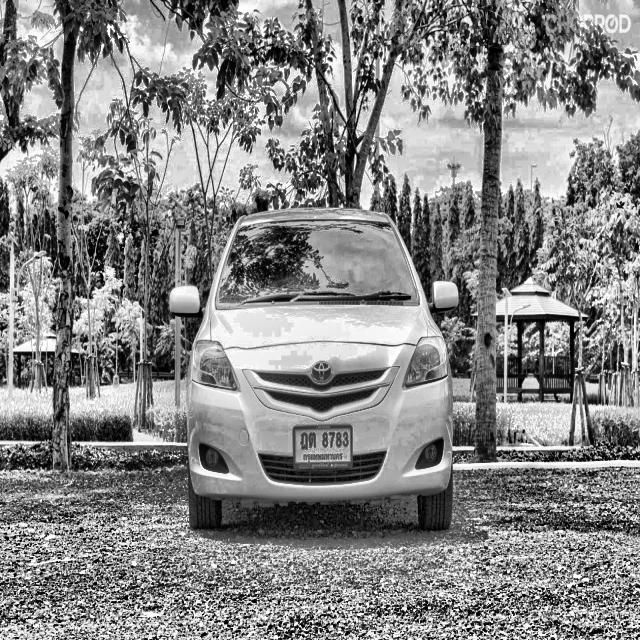license-plate: (294, 423, 354, 470)
